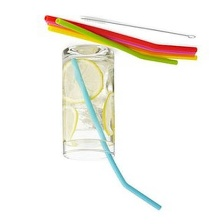drinking_straw: (68, 54, 164, 216)
glass: (56, 40, 119, 165)
